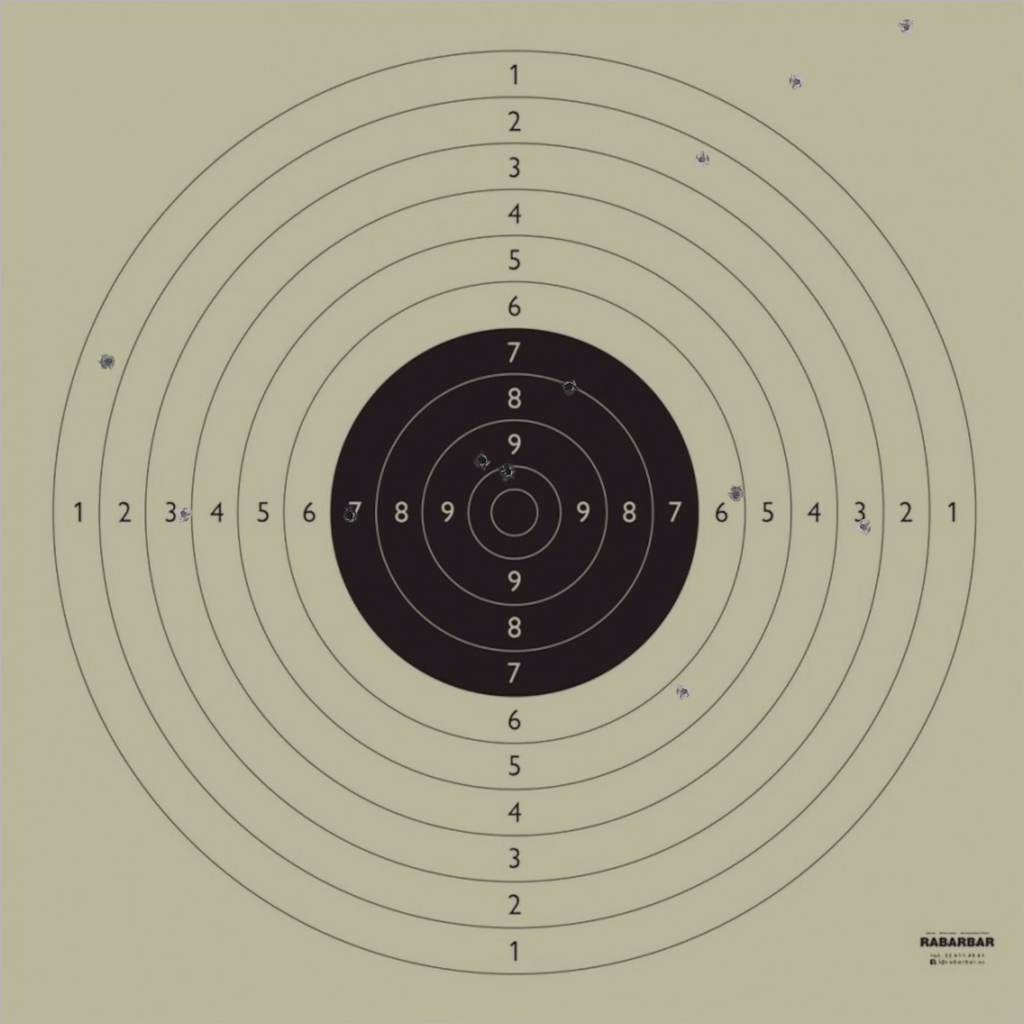0 punktow: (787, 73, 806, 91)
1 punkt: (99, 353, 117, 371)
10 punktow: (499, 463, 517, 481)
2 punkty: (693, 150, 711, 169)
3 punkty: (854, 518, 873, 536)
4 punkty: (175, 505, 193, 523)
5 punktow: (675, 682, 693, 701)
6 punktow: (727, 485, 745, 503)
7 punktow: (341, 506, 359, 524)
8 punktow: (560, 377, 579, 396)
9 punktow: (473, 451, 492, 470)
